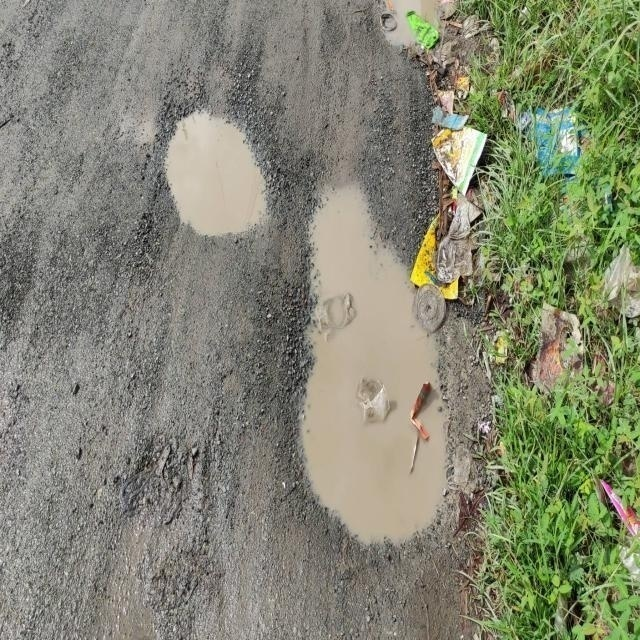pothole: (286, 141, 464, 578), (146, 69, 278, 273)
